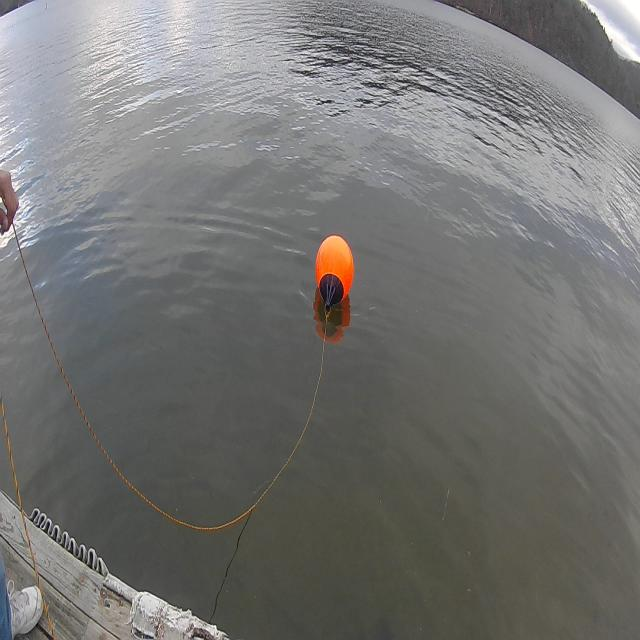Buoy: (314, 234, 356, 304)
